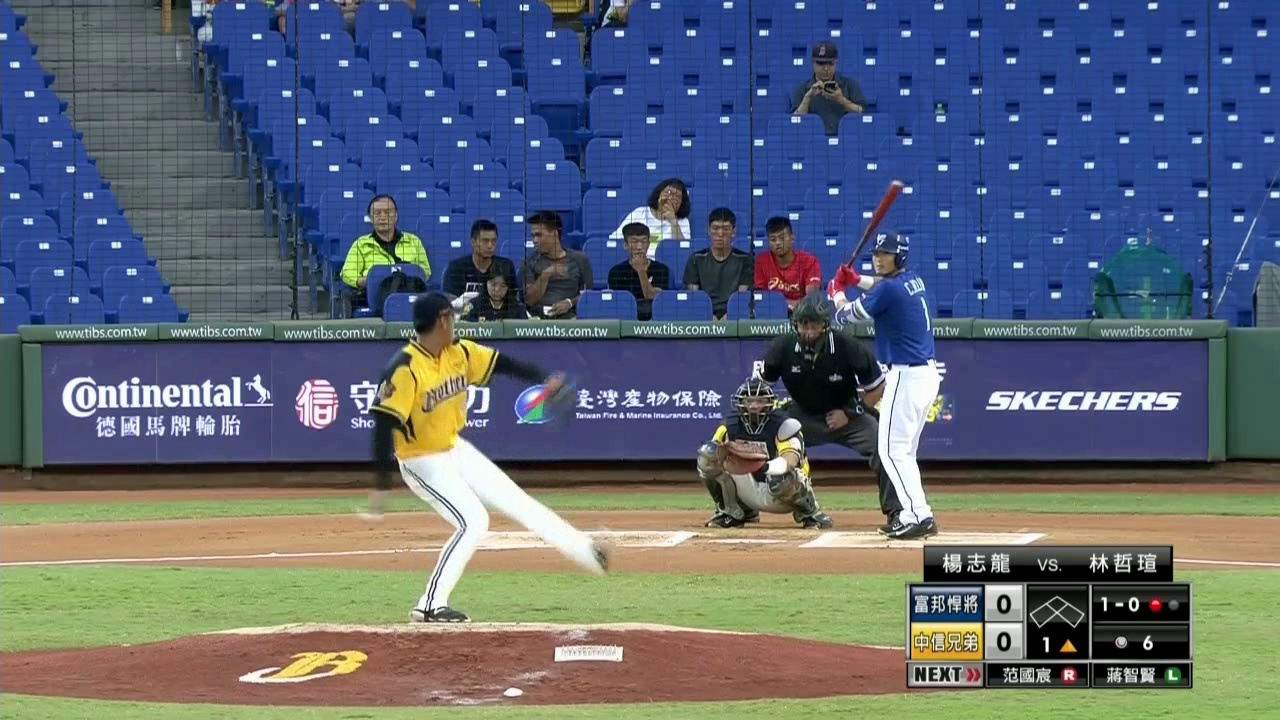ball: (356, 506, 384, 522)
base: (1028, 592, 1087, 628)
bat: (845, 177, 907, 270)
out: (1146, 596, 1181, 614)
score1: (985, 585, 1023, 621)
score2: (985, 624, 1022, 658)
session: (1037, 634, 1079, 654)
strikeball: (1097, 592, 1140, 614)
total: (1109, 627, 1162, 653)
